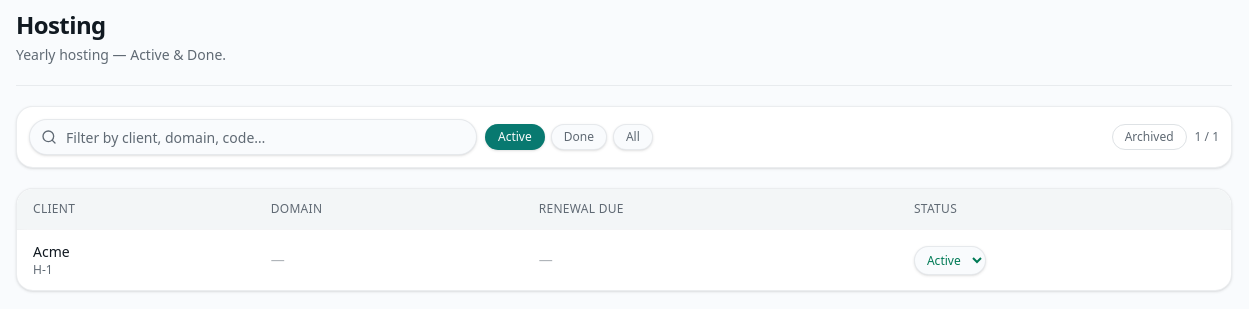
it: JobsListPage — admin-only Archived toggle › admin: the toggle is rendered, and clicking it swaps the list to the archived rows
This screenshot has width=1249, height=309.
Click the button "Archived". click: coordinates (1149, 137)
box: [1112,124,1186,150]
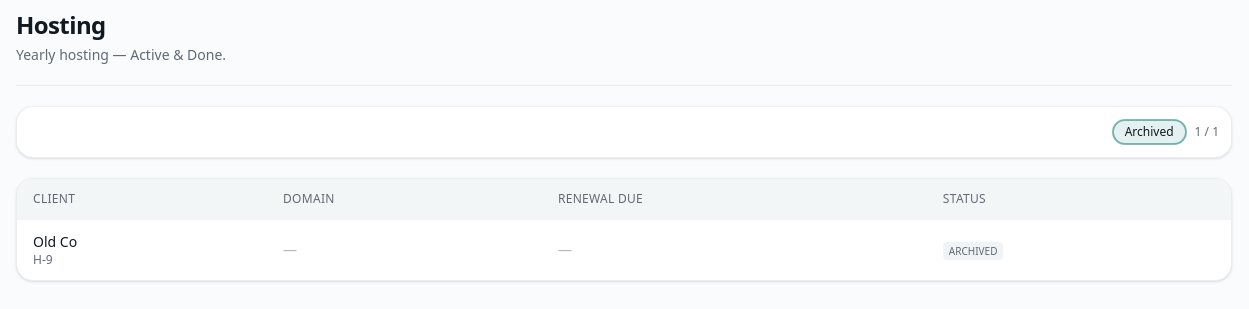
Check: the link "Old Co" is shown, box [33,232,77,251]
Check: the link "Acme" is gone
